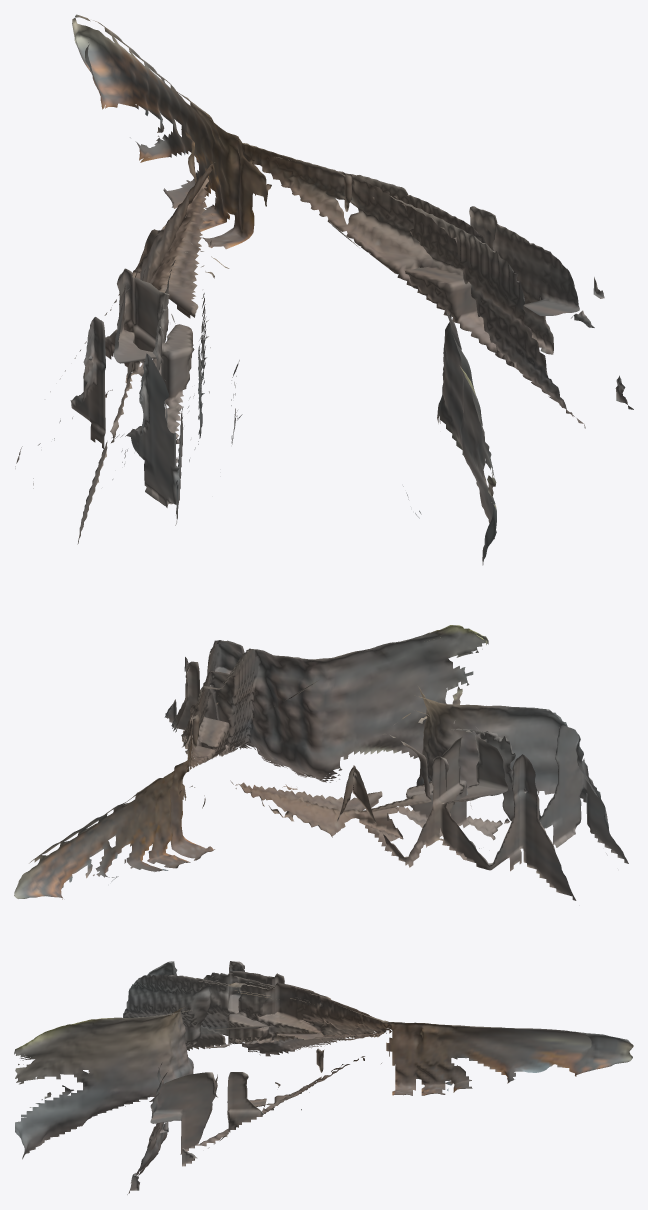
File: collider.glb
3 views of the same model, one above another, from view 1: azimuth 30°, elevation 25°; view 2: azimuth 150°, elevation 25°; view 3: azimuth 270°, elevation 25° (orthographic). The views are drawn at different scales.
Parts seen in each view (by area): view 1: world; view 2: world; view 3: world.
Part boxes in pixels (x1,y1,x2,y2): world: [15, 14, 633, 565]; world: [14, 625, 628, 900]; world: [14, 961, 633, 1194].
Size of the model in its own units: 80.46 by 33.79 by 125.
